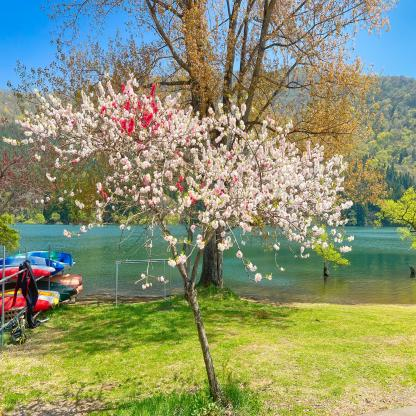Momo: (4, 72, 358, 288)
